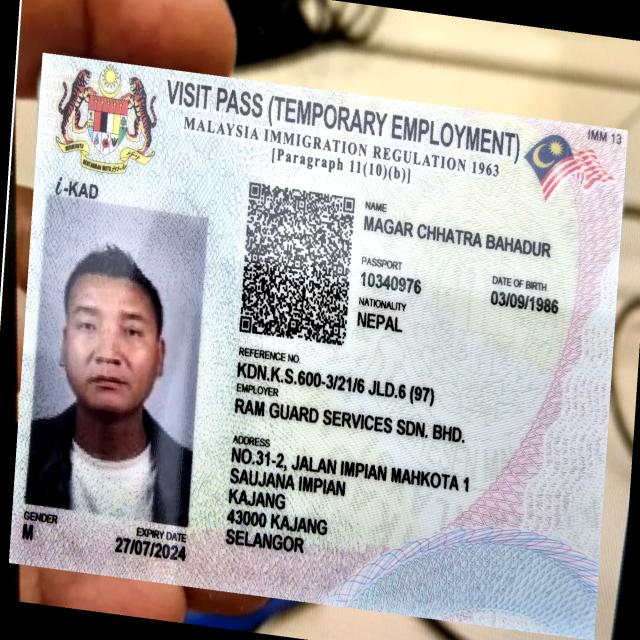ikad-temp: (9, 50, 628, 638)
